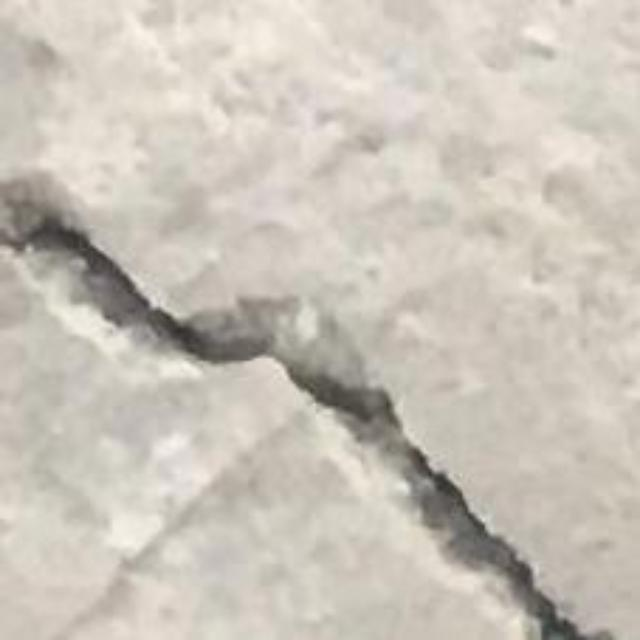crack: (0, 175, 614, 639)
